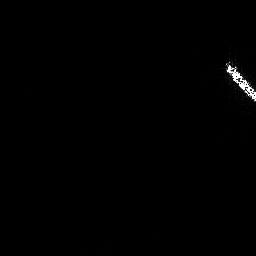ship: (222, 59, 256, 105)
